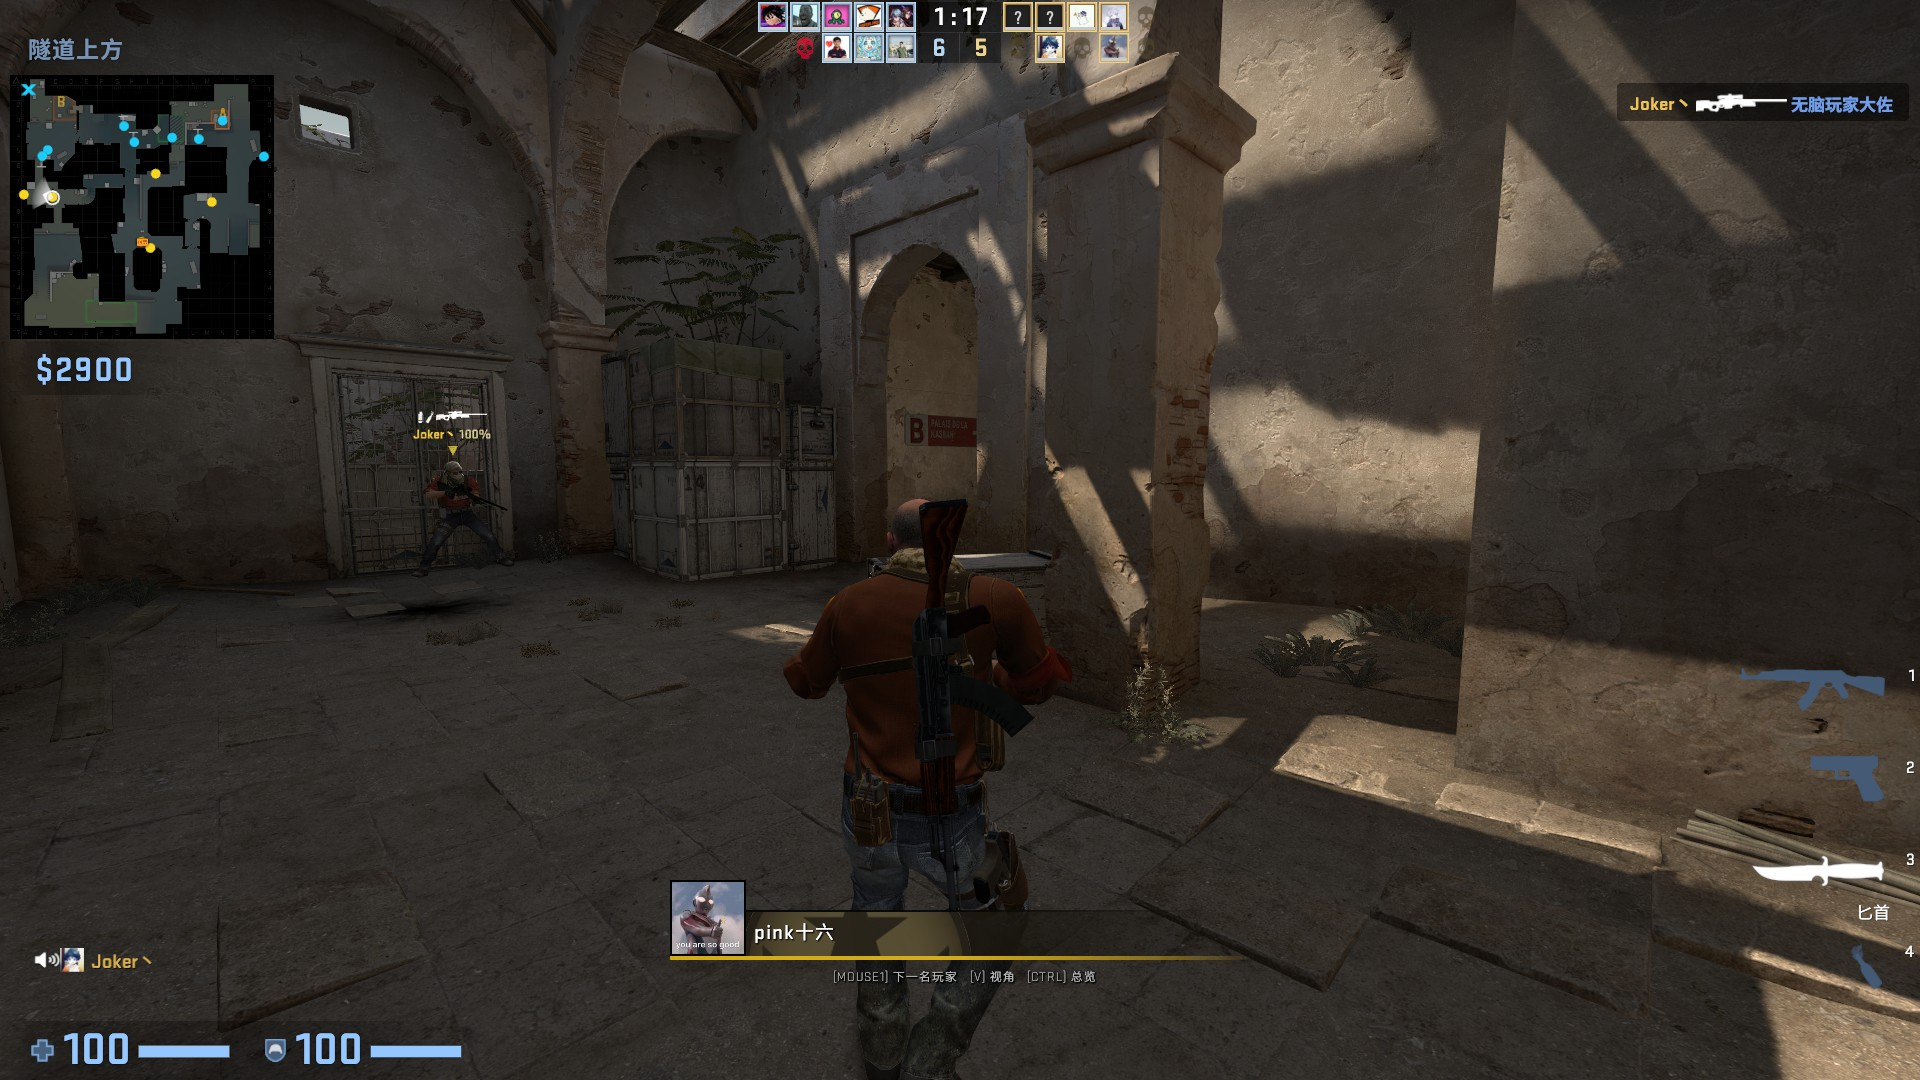head: (879, 497, 946, 554), (444, 460, 466, 483)
